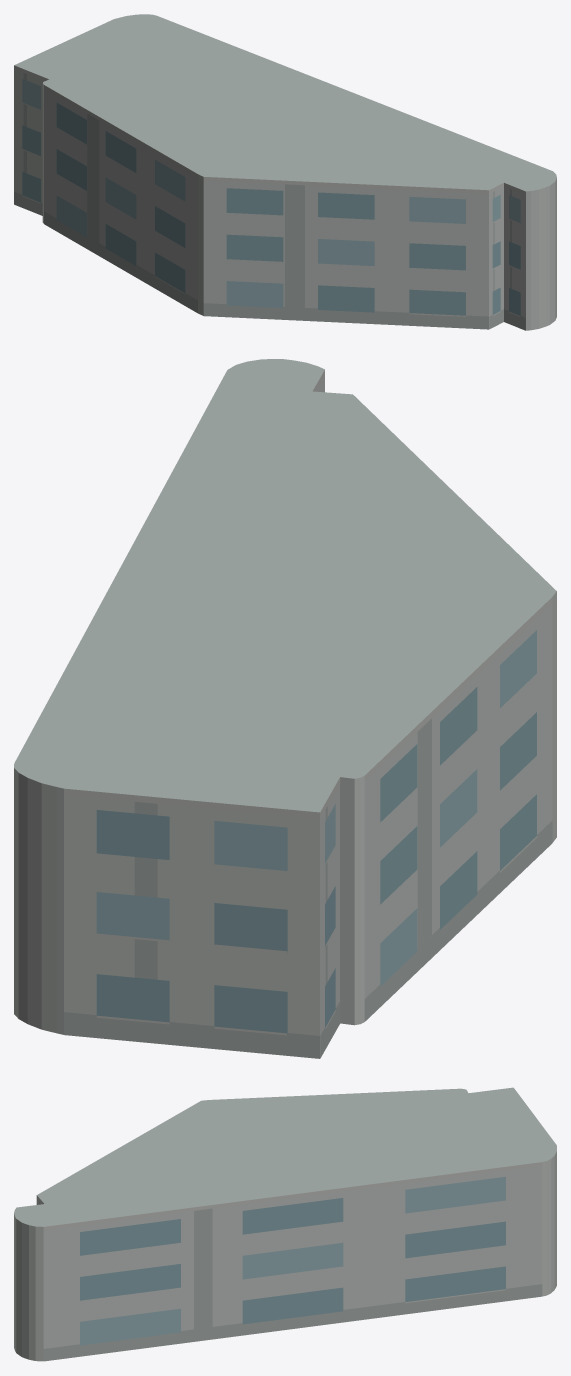
File: survey-upis-32923898.glb
3 renders of one model, top to bottom at view 1: azimuth 30°, elevation 25°; view 2: azimuth 150°, elevation 25°; view 3: azimuth 270°, elevation 25°, orthographic. The views are drawn at different scales.
Visible parts, largest first — view 1: survey-upis-32923898.tmp; view 2: survey-upis-32923898.tmp; view 3: survey-upis-32923898.tmp.
Part boxes in pixels (bbox=[...]): survey-upis-32923898.tmp: bbox=[14, 14, 556, 330]; survey-upis-32923898.tmp: bbox=[14, 359, 556, 1058]; survey-upis-32923898.tmp: bbox=[14, 1087, 556, 1361].
Bounding box in the file's own units: 20.34 × 9.15 × 33.47.
